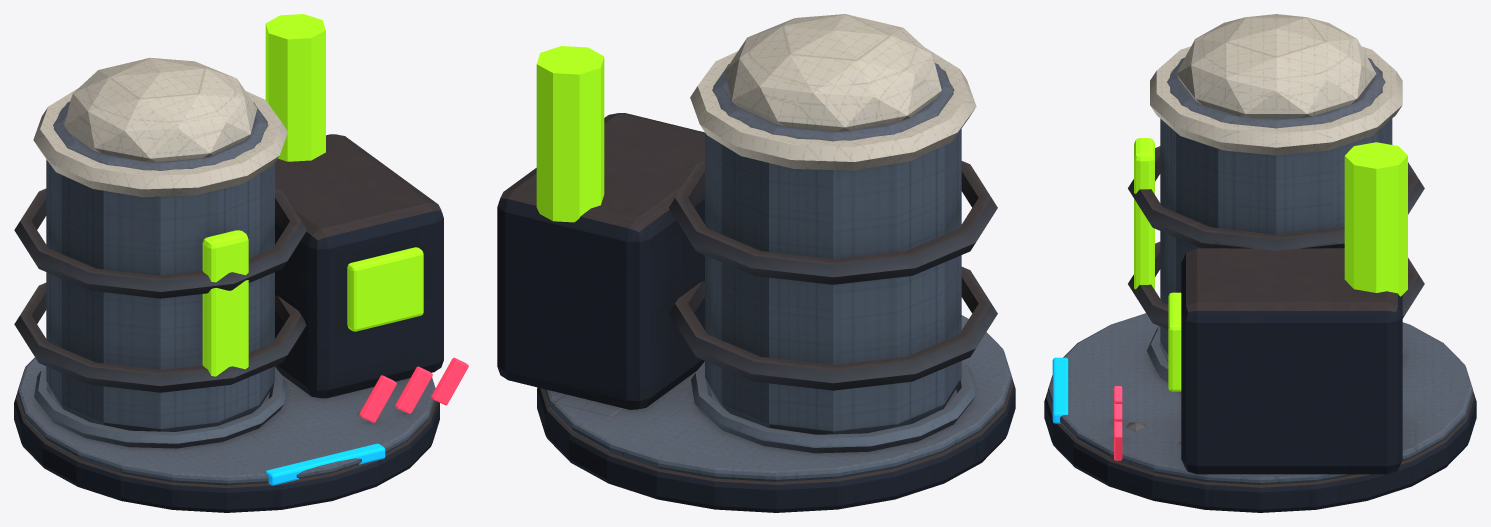
File: acid-processing-plant.glb
3 views of the same model, side by side, from view 1: azimuth 30°, elevation 25°; view 2: azimuth 150°, elevation 25°; view 3: azimuth 270°, elevation 25° (orthographic). The views are drawn at different scales.
Parts seen in each view (by area): view 1: Android Chassis, Android Graphite, Android Ceramic, Android HazardAcid, Android Warning, Android FactionAccent; view 2: Android Chassis, Android Graphite, Android Ceramic, Android HazardAcid; view 3: Android Graphite, Android Chassis, Android Ceramic, Android HazardAcid, Android FactionAccent, Android Warning.
Part boxes in pixels (x1,y1,x2,y2): Android Chassis: (17, 101, 435, 485); Android Graphite: (14, 134, 443, 512); Android Ceramic: (33, 57, 287, 197); Android HazardAcid: (202, 14, 423, 376); Android Warning: (359, 357, 468, 422); Android FactionAccent: (265, 443, 385, 485); Android Chassis: (543, 63, 1012, 481); Android Graphite: (497, 113, 1015, 512); Android Ceramic: (690, 14, 976, 170); Android HazardAcid: (536, 46, 604, 222); Android Graphite: (1044, 146, 1476, 512); Android Chassis: (1047, 57, 1473, 484); Android Ceramic: (1150, 14, 1402, 155); Android HazardAcid: (1134, 138, 1407, 391); Android FactionAccent: (1052, 357, 1068, 423); Android Warning: (1114, 386, 1122, 460).
Size of the model in its own units: 0.822 by 0.768 by 0.82.
7 materials, 4 textured.
